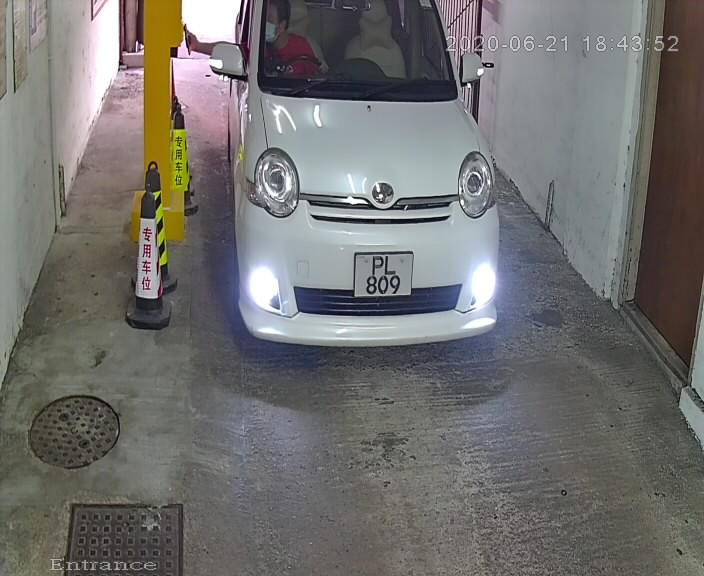privatecar: (205, 1, 535, 368)
